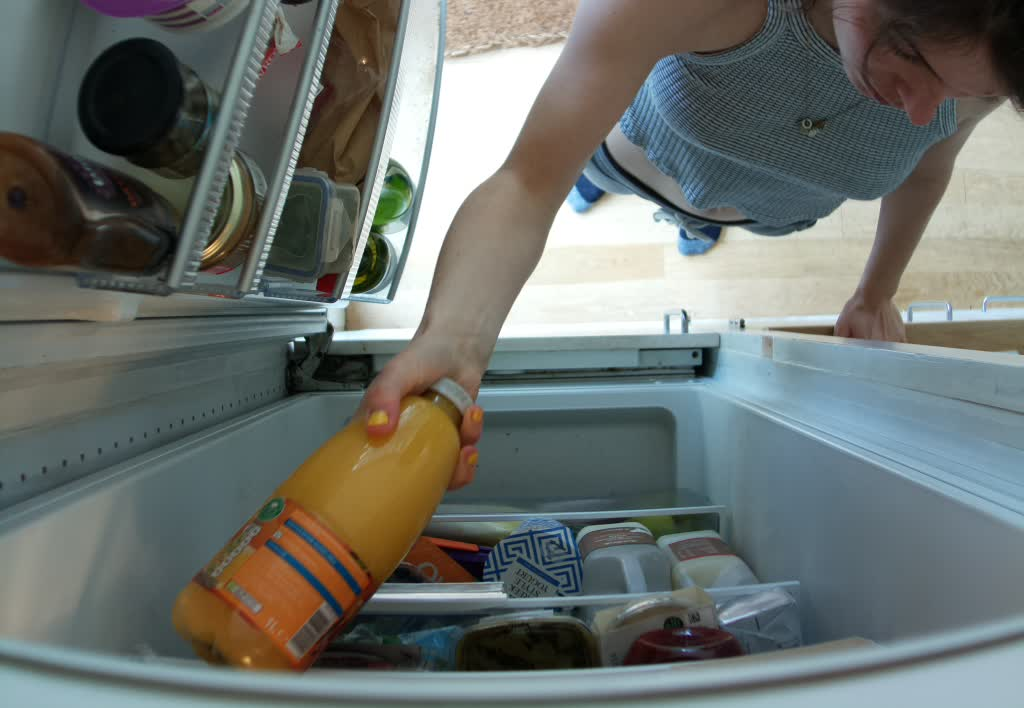juice: (173, 357, 477, 682)
